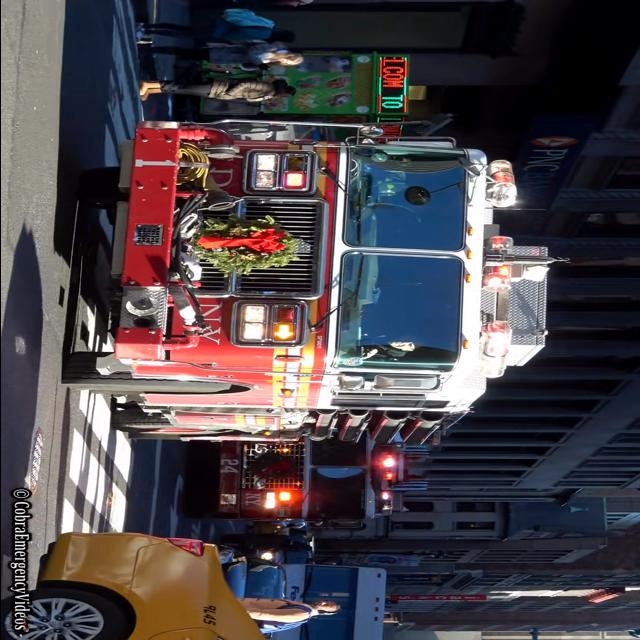emergency-vehicles: (59, 118, 576, 454), (174, 438, 410, 530)
